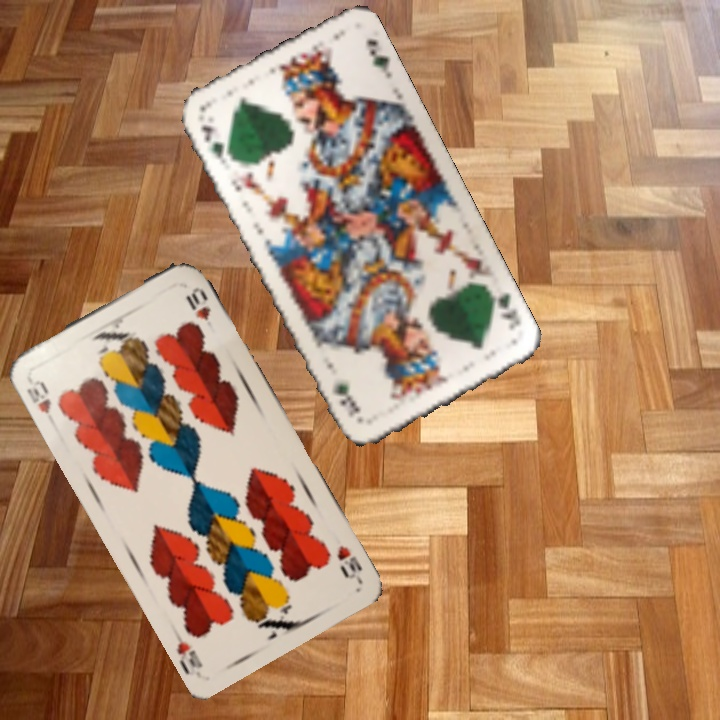GK: (485, 287, 524, 333), (197, 120, 233, 167)
H10: (22, 370, 54, 416), (333, 541, 365, 584)
